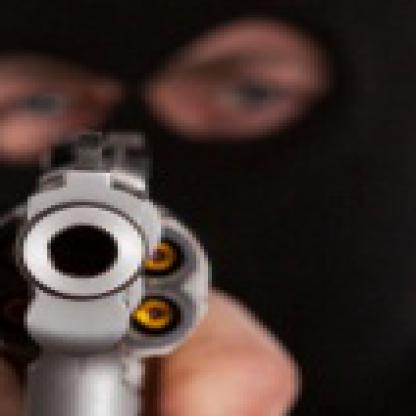gun: (0, 123, 220, 413)
